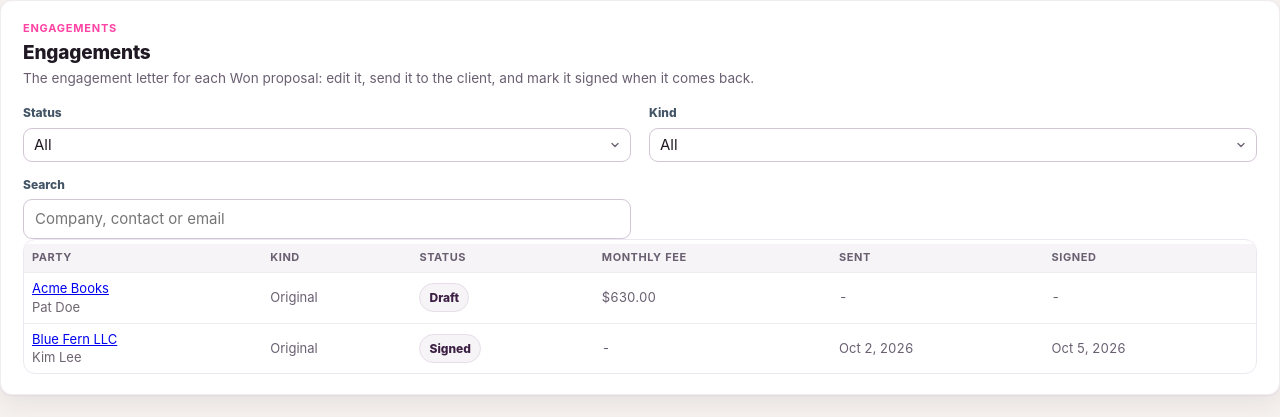
Test: the Engagements list › filters by status
The image size is (1280, 417).
Expected: the link "Acme Books" is shown, [32, 280, 109, 296]
Select "Signed" in the dropdown named "Status filter" at (327, 145), box [23, 128, 631, 162]
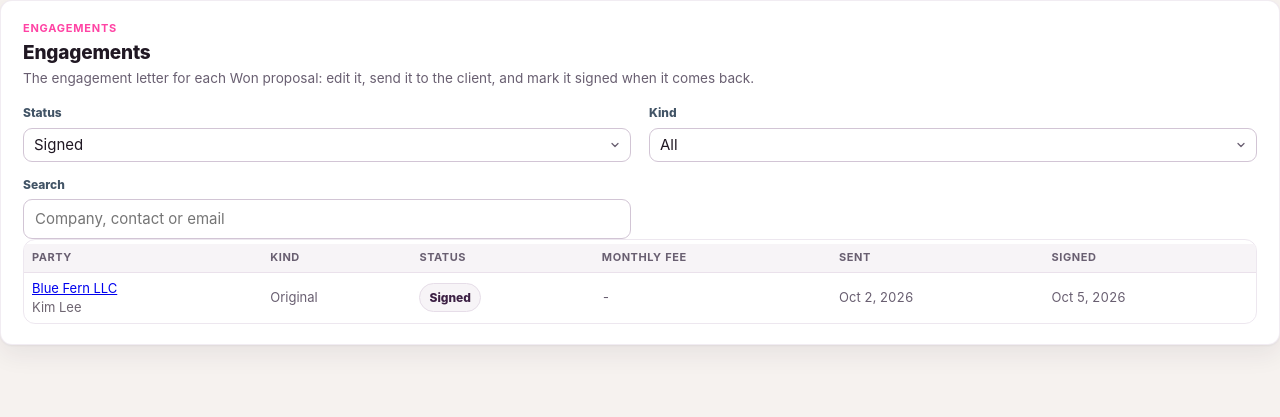
Expected: the link "Blue Fern LLC" is shown, [32, 280, 117, 296]
Expected: the link "Acme Books" is gone
